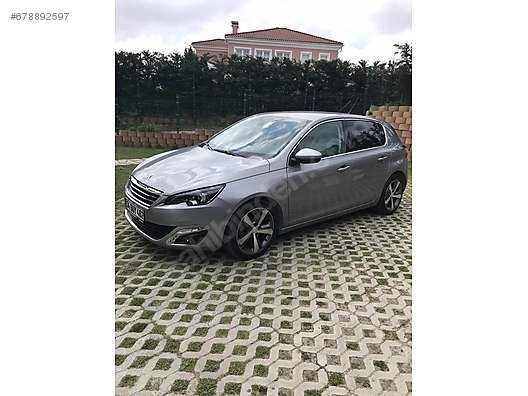peugeot: (108, 101, 414, 263)
